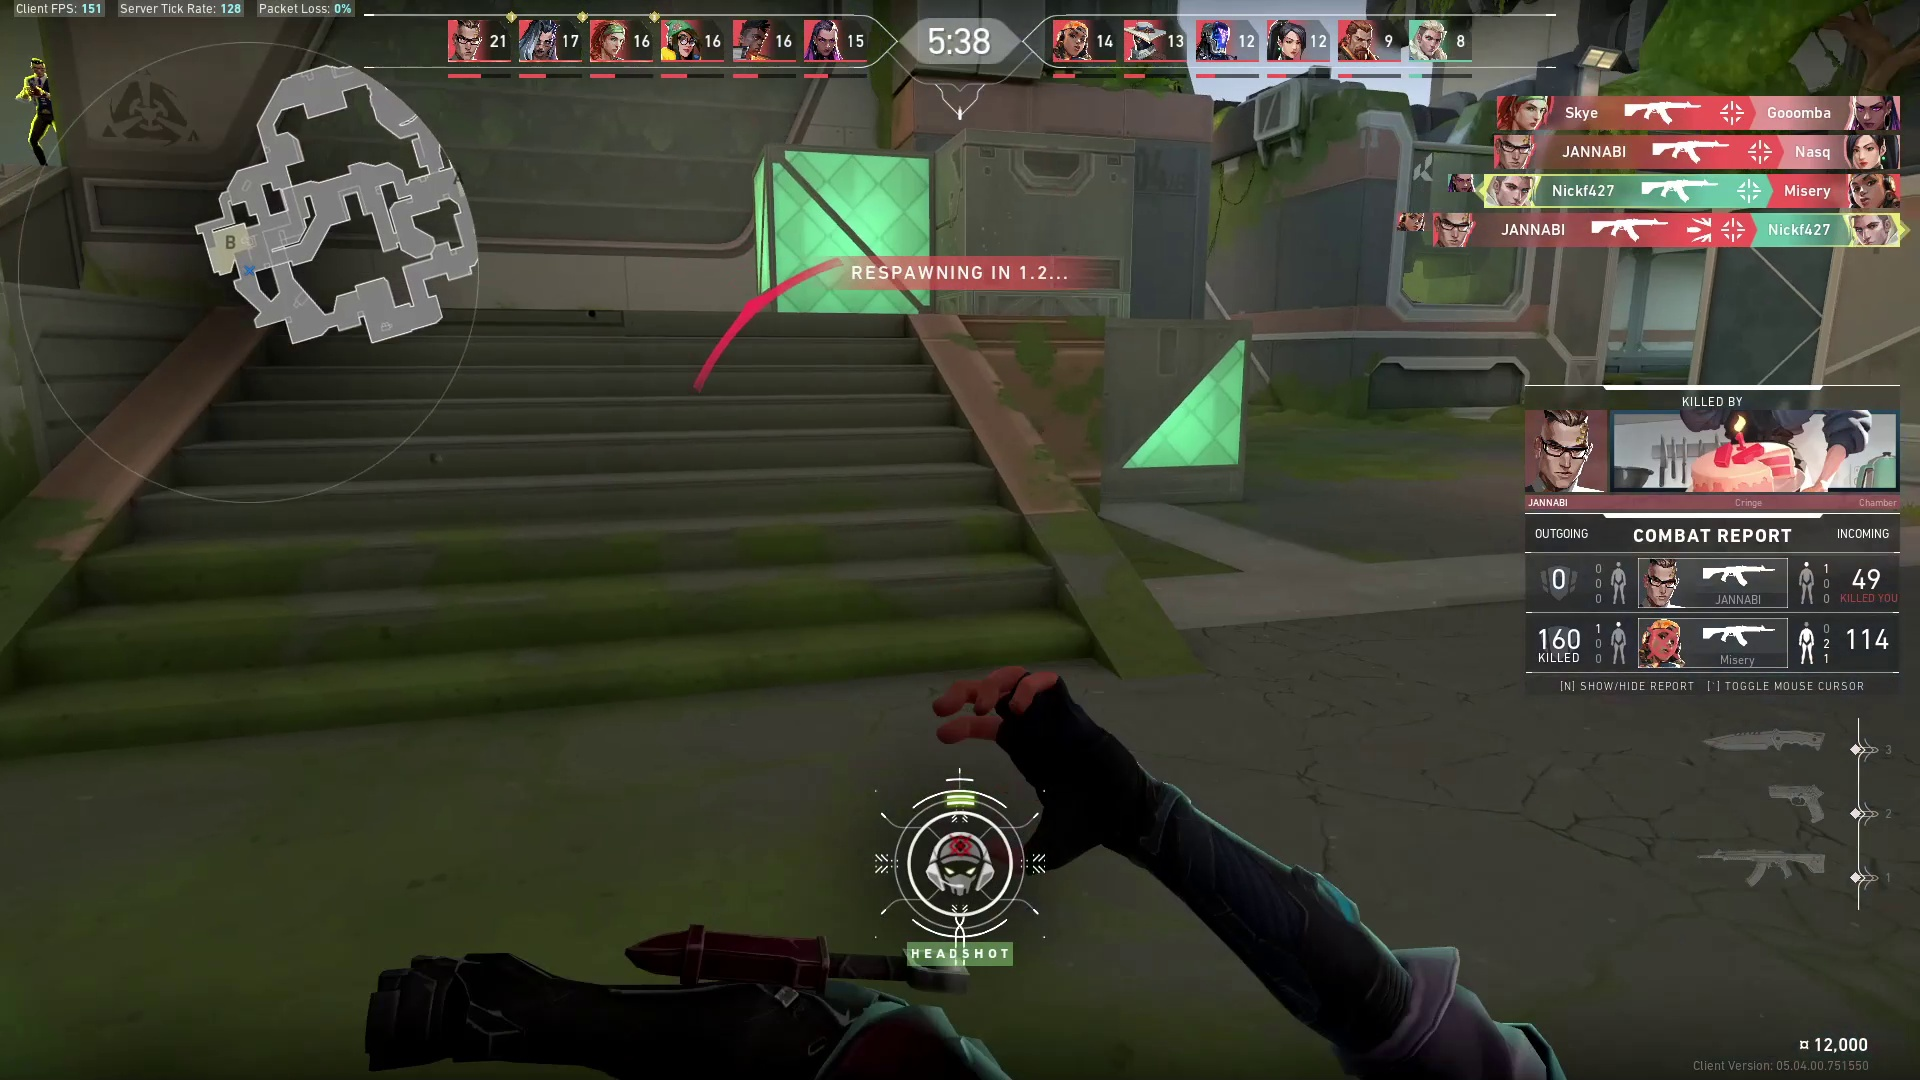enemy_body: (15, 75, 61, 169)
enemy_head: (26, 55, 47, 78)
